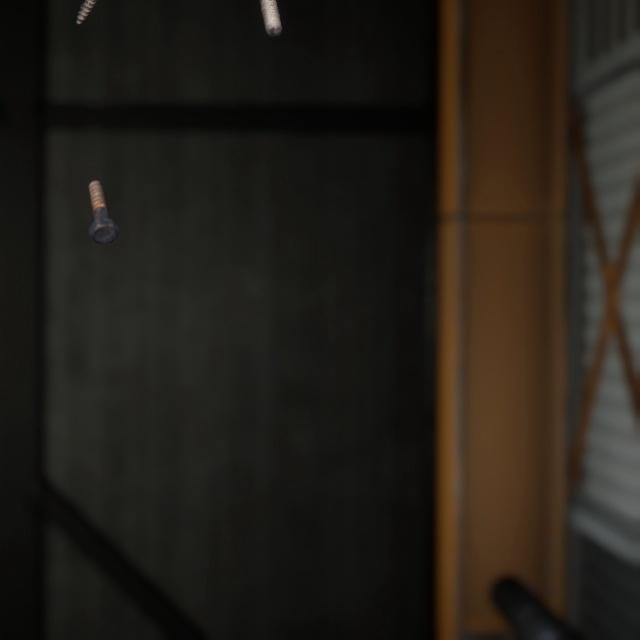bolt: (83, 161, 123, 233), (256, 0, 286, 34), (71, 0, 98, 23)
